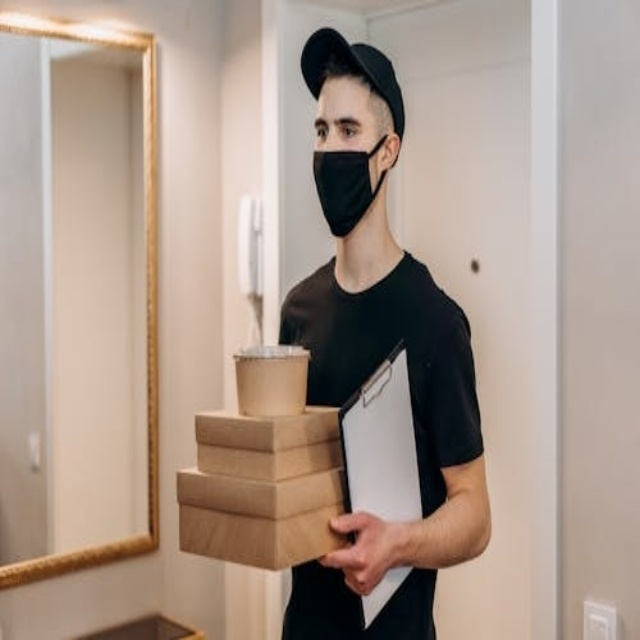Mascara: (314, 133, 393, 238)
Sin_gafas: (312, 106, 367, 146)
Sin_guantes: (321, 498, 401, 598)
